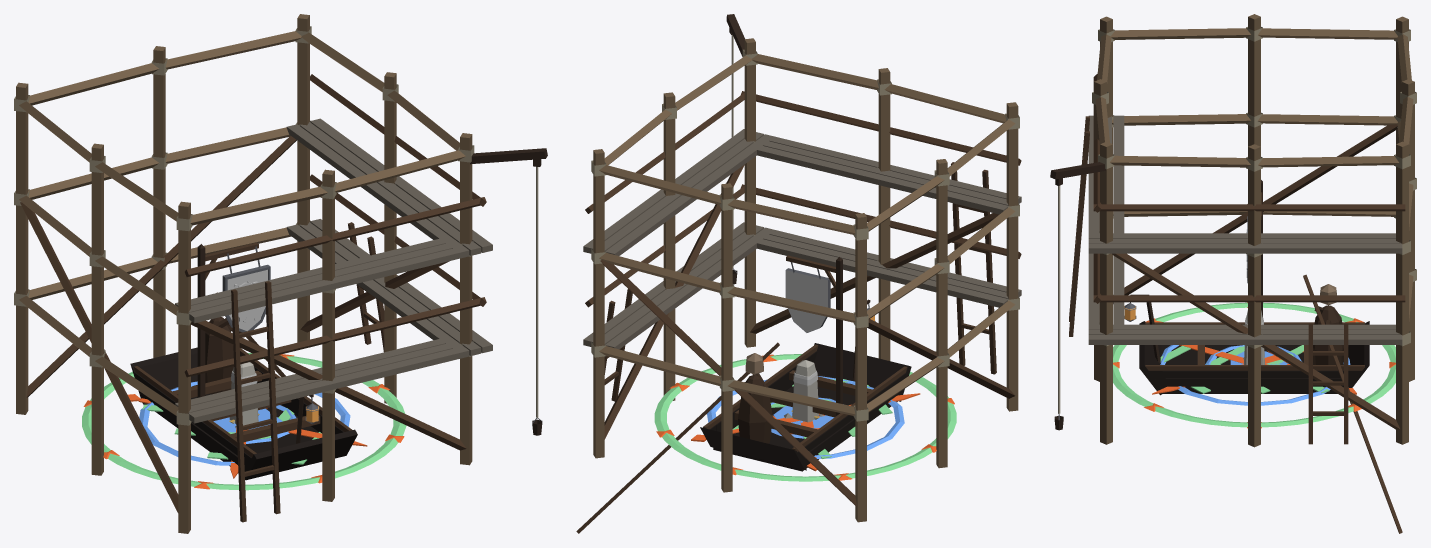
Rendered from tokens.glb.
3 views of the same model, side by side, from view 1: azimuth 30°, elevation 25°; view 2: azimuth 150°, elevation 25°; view 3: azimuth 270°, elevation 25° (orthographic). The views are drawn at different scales.
Visible parts, largest first — view 1: scaffold@scaffold, scaffold close@scaffold!fine, barge hull@barge, road sigil@talentSigil2, scaffold lashings@scaffold!fine, ward sigil@talentSigil1, crest board@crestBoard, barge ferryman@barge, steel sigil@talentSigil0, crest field@crestBoard; view 2: scaffold@scaffold, barge hull@barge, scaffold close@scaffold!fine, road sigil@talentSigil2, barge ferryman@barge, scaffold lashings@scaffold!fine, crest field@crestBoard, ward sigil@talentSigil1, crest board@crestBoard, border stone@borderStone, steel sigil@talentSigil0; view 3: scaffold@scaffold, scaffold close@scaffold!fine, barge hull@barge, road sigil@talentSigil2, barge ferryman@barge, scaffold lashings@scaffold!fine, ward sigil@talentSigil1, steel sigil@talentSigil0, barge strakes@barge!fine, barge lantern@barge.
Boxes of the visible parts, left/top/right/bottom form: scaffold@scaffold: left=16, top=14, right=492, bottom=533; scaffold close@scaffold!fine: left=184, top=74, right=547, bottom=435; barge hull@barge: left=130, top=344, right=357, bottom=480; road sigil@talentSigil2: left=82, top=353, right=406, bottom=490; scaffold lashings@scaffold!fine: left=14, top=26, right=474, bottom=425; ward sigil@talentSigil1: left=139, top=381, right=350, bottom=465; crest board@crestBoard: left=197, top=242, right=260, bottom=397; barge ferryman@barge: left=205, top=292, right=285, bottom=393; steel sigil@talentSigil0: left=83, top=354, right=404, bottom=489; crest field@crestBoard: left=227, top=269, right=267, bottom=331; scaffold@scaffold: left=583, top=38, right=1021, bottom=522; barge hull@barge: left=700, top=343, right=911, bottom=471; scaffold close@scaffold!fine: left=585, top=14, right=1021, bottom=401; road sigil@talentSigil2: left=654, top=354, right=956, bottom=481; barge ferryman@barge: left=576, top=342, right=779, bottom=533; scaffold lashings@scaffold!fine: left=591, top=49, right=1019, bottom=421; crest field@crestBoard: left=786, top=270, right=827, bottom=332; ward sigil@talentSigil1: left=707, top=376, right=904, bottom=458; crest board@crestBoard: left=786, top=255, right=842, bottom=415; border stone@borderStone: left=784, top=360, right=823, bottom=422; steel sigil@talentSigil0: left=656, top=354, right=954, bottom=480; scaffold@scaffold: left=1069, top=14, right=1414, bottom=447; scaffold close@scaffold!fine: left=1050, top=74, right=1405, bottom=444; barge hull@barge: left=1139, top=321, right=1369, bottom=395; road sigil@talentSigil2: left=1113, top=302, right=1395, bottom=427; barge ferryman@barge: left=1303, top=274, right=1402, bottom=533; scaffold lashings@scaffold!fine: left=1092, top=27, right=1416, bottom=348; ward sigil@talentSigil1: left=1160, top=345, right=1350, bottom=405; steel sigil@talentSigil0: left=1113, top=302, right=1395, bottom=428; barge strakes@barge!fine: left=1165, top=378, right=1341, bottom=381; barge lantern@barge: left=1124, top=294, right=1160, bottom=363.
Size of the model in its own units: 12.39 by 14.15 by 12.39.
